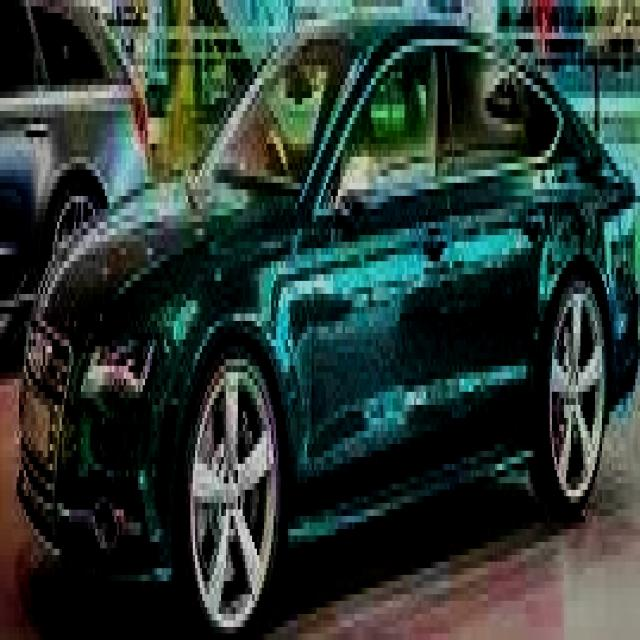green: (0, 19, 635, 640)
